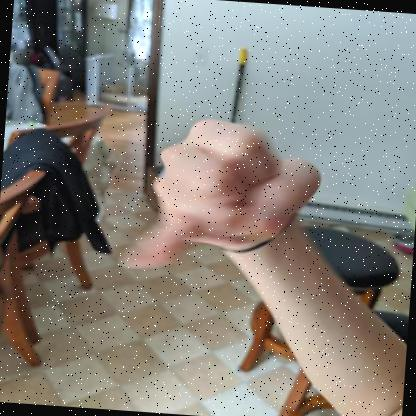J: (117, 119, 321, 269)
